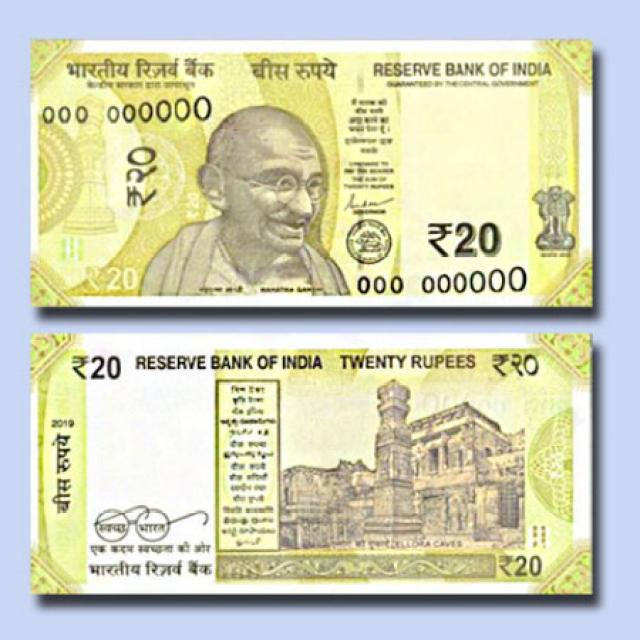20IndianRupees: (30, 36, 594, 308), (29, 339, 591, 590), (242, 37, 592, 313), (32, 40, 400, 297), (208, 348, 595, 592), (27, 339, 329, 594)
